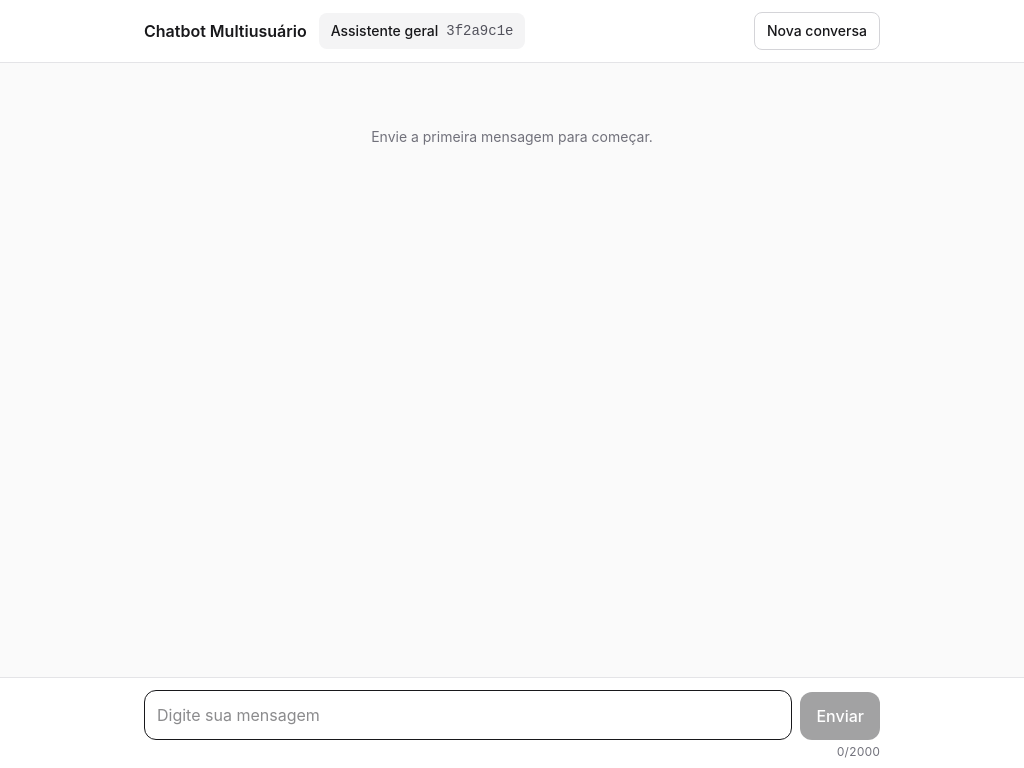
Test: erros e sessão expirada › 422 ao enviar mostra a message da API com "Tentar de novo"
This screenshot has width=1024, height=768.
Type "Oi" into the text box labelled "mensagem" at (468, 715), box [144,690,792,740]
Then press Enter
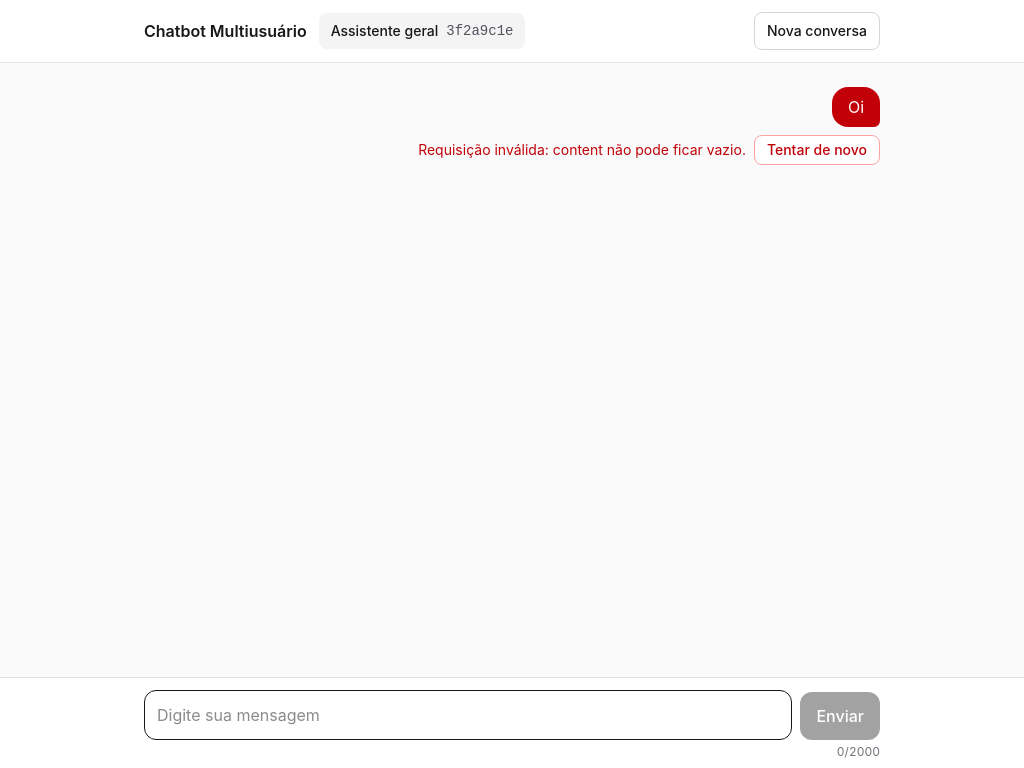
Expected: the text "Requisição inválida: content não pode ficar vazio." is shown, [418,140,746,160]
Expected: the button "Tentar de novo" is shown, [754,135,880,165]
